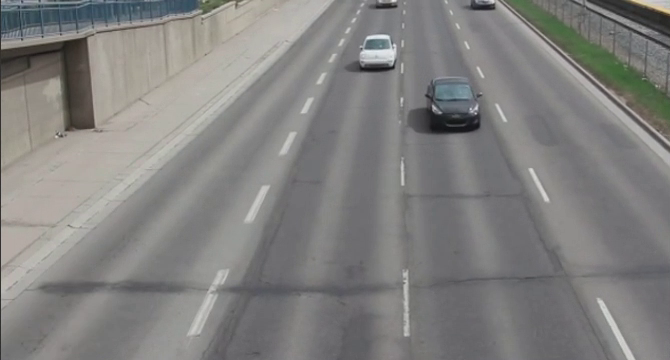car: (427, 75, 485, 135), (354, 31, 400, 78)
